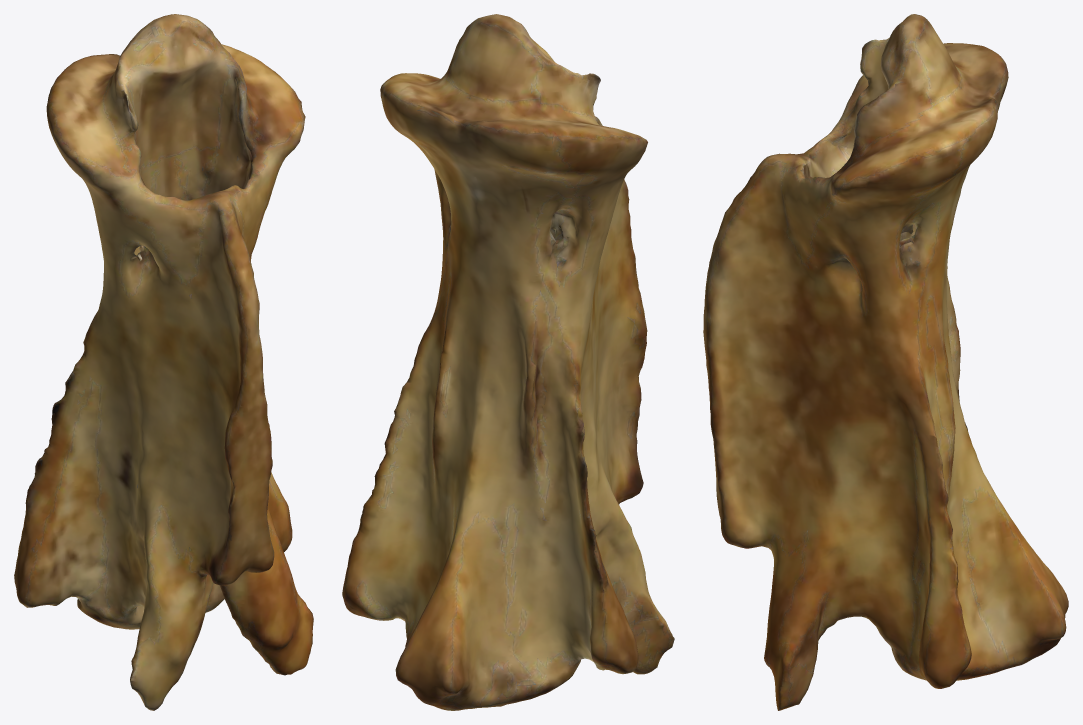
The model's file is axis.glb.
3 renders of one model, left to right at view 1: azimuth 30°, elevation 25°; view 2: azimuth 150°, elevation 25°; view 3: azimuth 270°, elevation 25°, orthographic. The views are drawn at different scales.
Visible parts, largest first — view 1: Alpaca Axis; view 2: Alpaca Axis; view 3: Alpaca Axis.
Part boxes in pixels (<box>): Alpaca Axis: <box>14,14,313,710</box>; Alpaca Axis: <box>342,14,674,710</box>; Alpaca Axis: <box>703,14,1068,710</box>.
Size of the model in its own units: 0.0487 by 0.1093 by 0.0539.
Materials: 1 (1 with a texture image).
